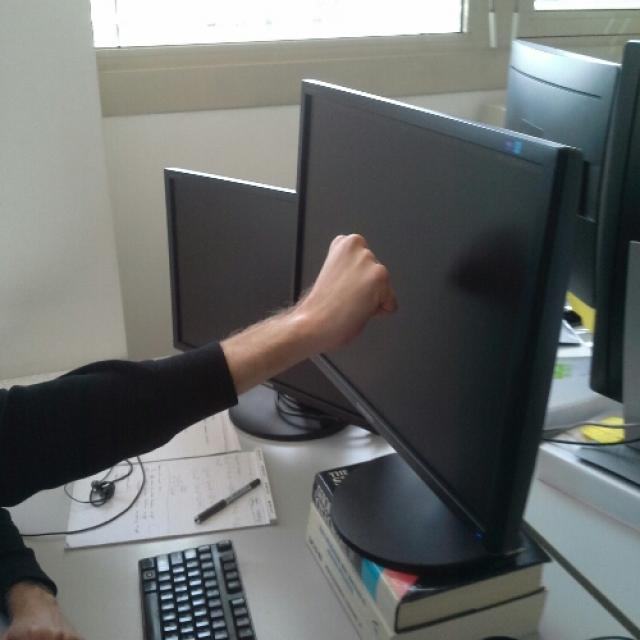rock: (312, 232, 402, 359)
